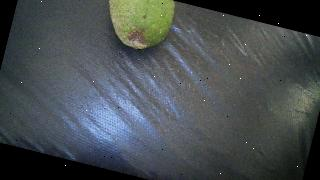DESECHO: (98, 0, 177, 55)
